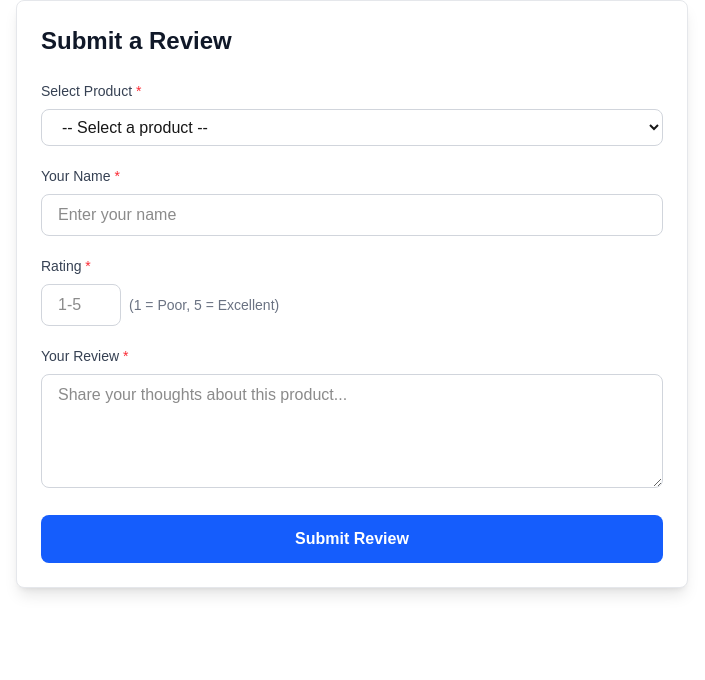
it: ProductReviewForm › displays error message on submission failure
This screenshot has width=705, height=680.
Fill in the form
Select "Test Product 1" in the dropdown labelled "Select Product *" at [352, 128], box [41,109,663,146]
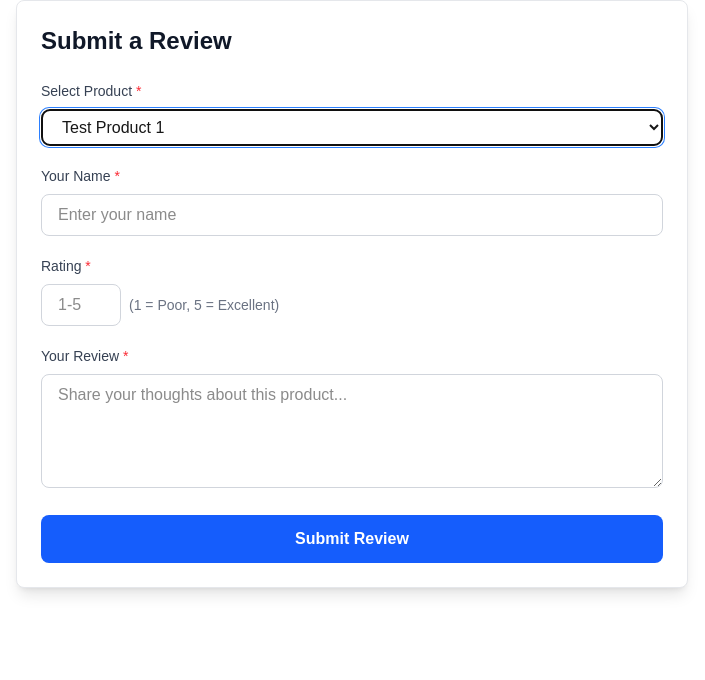
Type "John Doe" into the field labelled "Your Name *" at [352, 215], box [41,194,663,236]
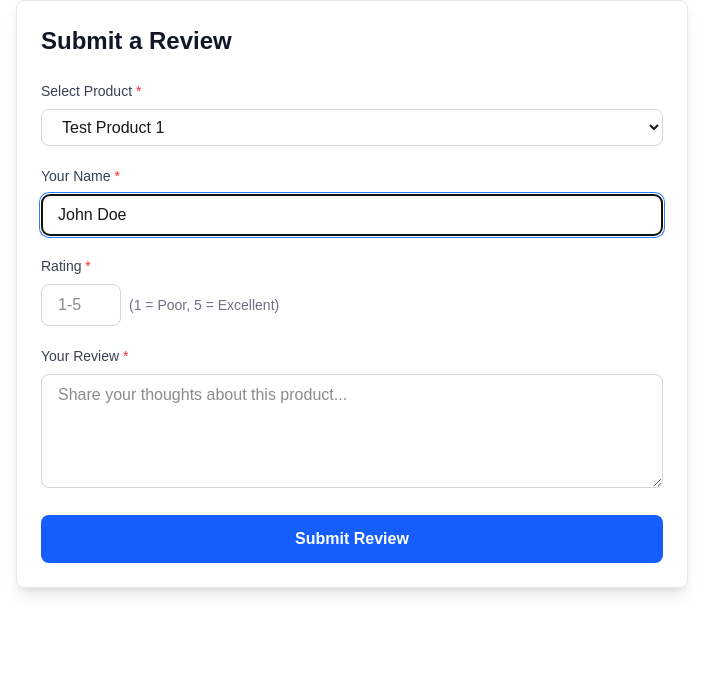
Type "5" into the number field labelled "Rating *" at [81, 305], box [41,284,121,326]
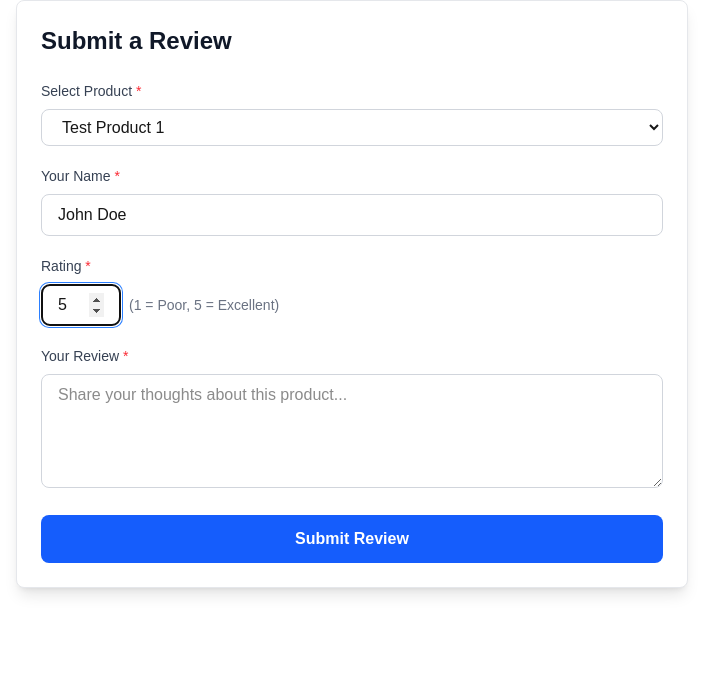
Type "This is a great product! I love it." into the text box labelled "Your Review *" at [352, 431], box [41,374,663,488]
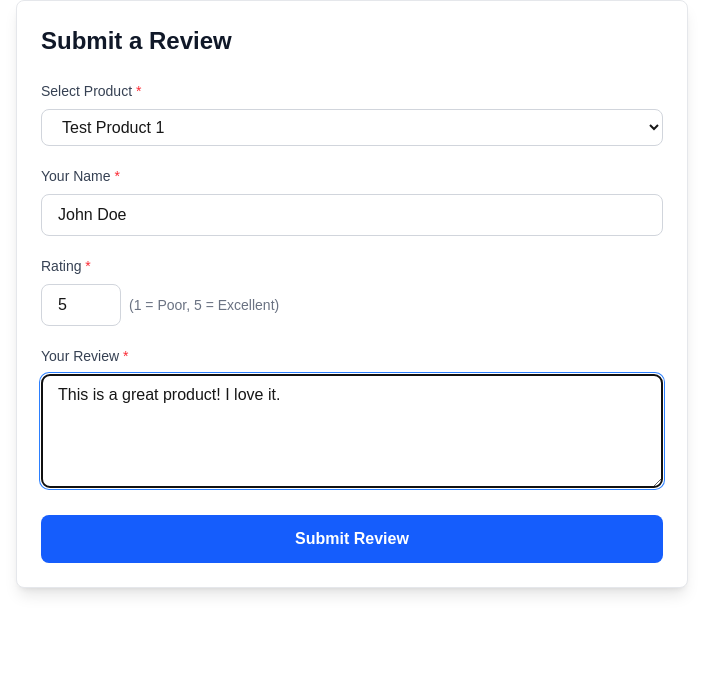
Click the button "Submit Review" at [352, 539], box [41,515,663,563]
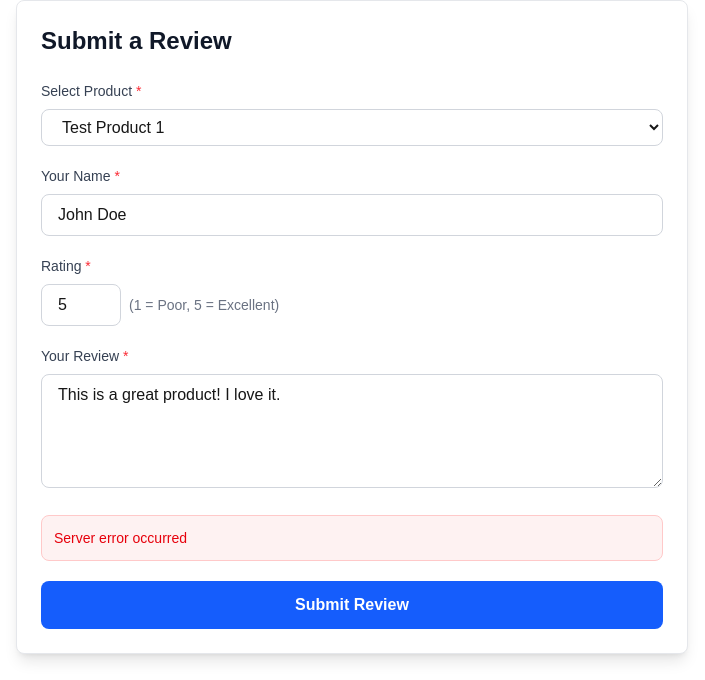
Now the text "Server error occurred" is shown, box [54,530,187,546]
